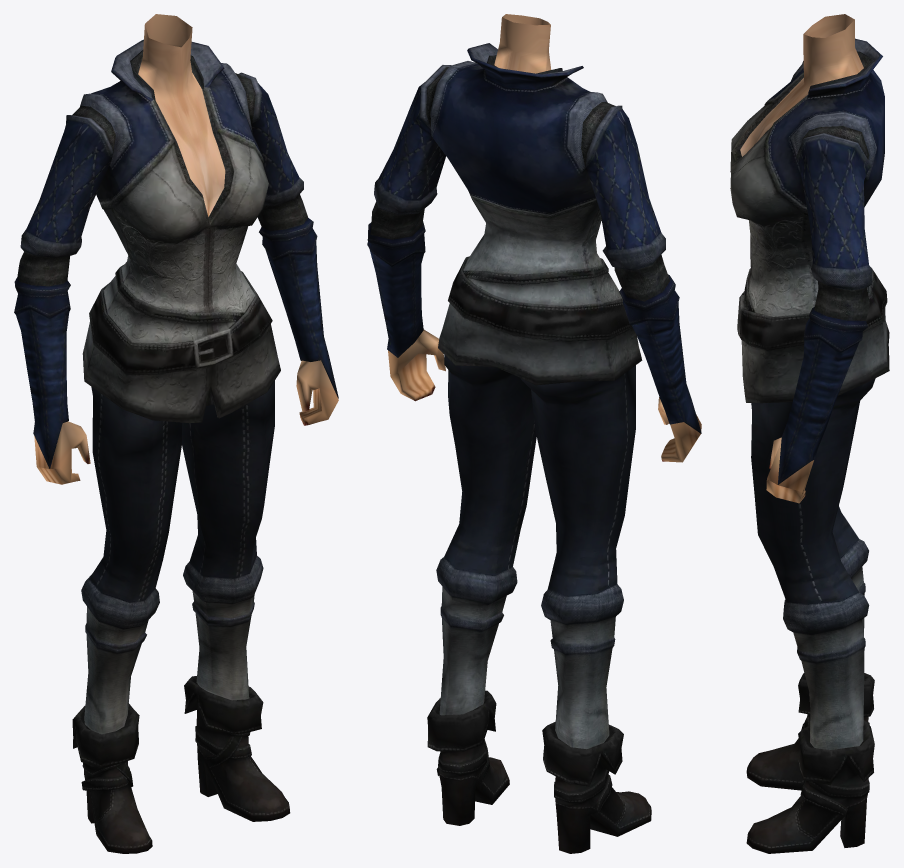
File: KOSA_TRISS_BLUE.glb
The picture shows the model from 3 angles, left to right: view 1: azimuth 30°, elevation 25°; view 2: azimuth 150°, elevation 25°; view 3: azimuth 270°, elevation 25°; orthographic projection. The views are drawn at different scales.
Visible parts, largest first — view 1: KOSA_TRISS_BLUE; view 2: KOSA_TRISS_BLUE; view 3: KOSA_TRISS_BLUE.
Boxes of the visible parts, x1,y1,x2,y2 form: KOSA_TRISS_BLUE: (14, 14, 338, 853); KOSA_TRISS_BLUE: (367, 14, 701, 853); KOSA_TRISS_BLUE: (730, 14, 889, 853).
Size of the model in its own units: 0.6594 by 1.67 by 0.3029.
Materials: 2 (2 with a texture image).
